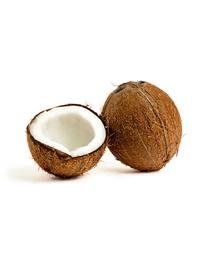coconut: (99, 81, 182, 173), (25, 103, 108, 179)
